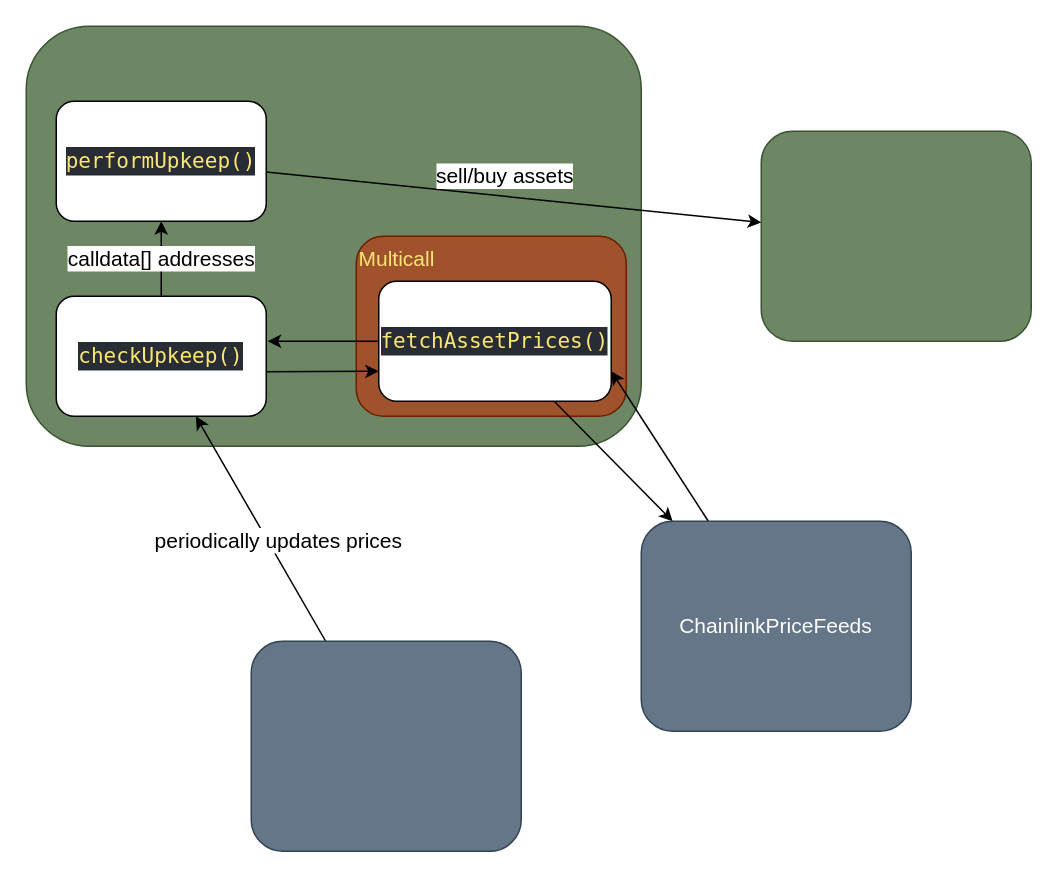
Image size: 1058x878. Some labels were removed from this diagram. Each missing label, with the box of its shape:
ChainlinkKeeper: (250, 640, 521, 851)
DefiAggregator: (760, 130, 1031, 341)
PortfolioManager: (25, 25, 641, 446)
